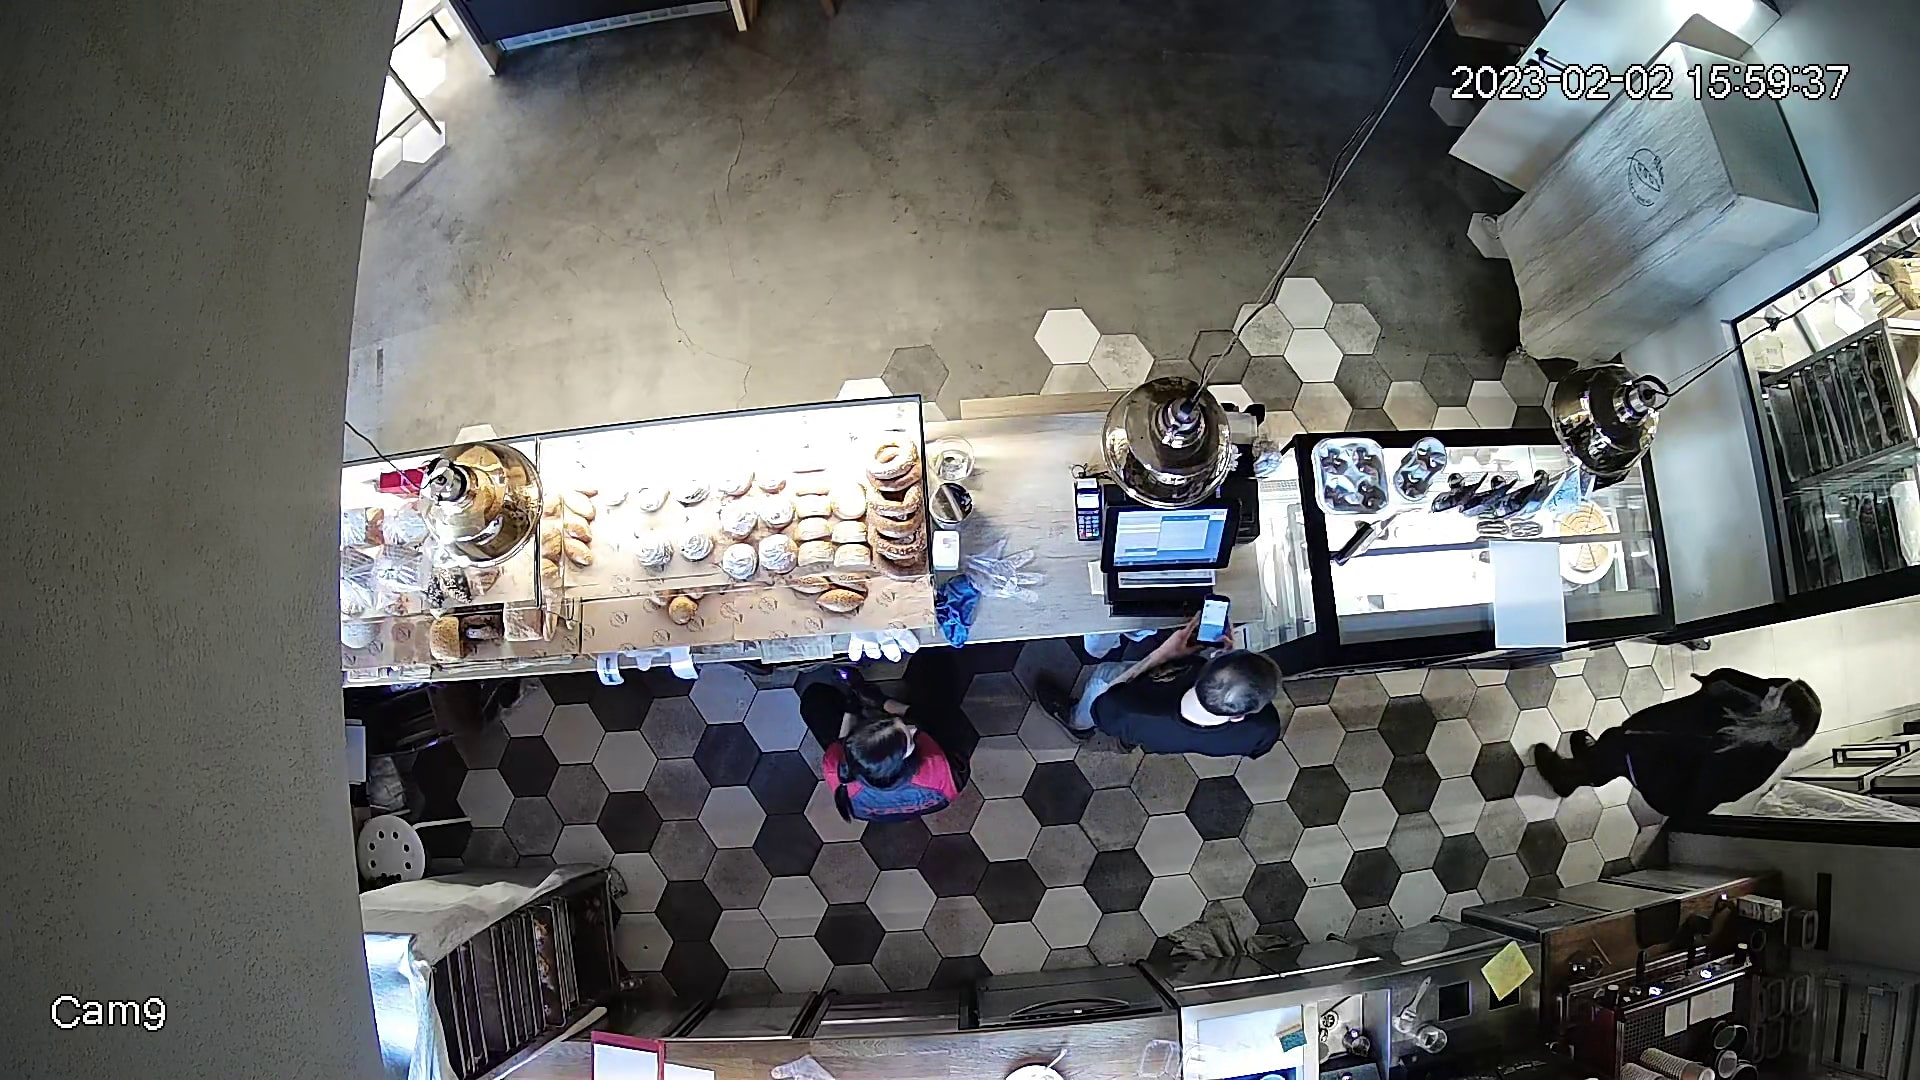barcounter: (376, 422, 1675, 662)
person: (1525, 669, 1836, 819), (1064, 634, 1308, 775), (801, 657, 984, 819)
